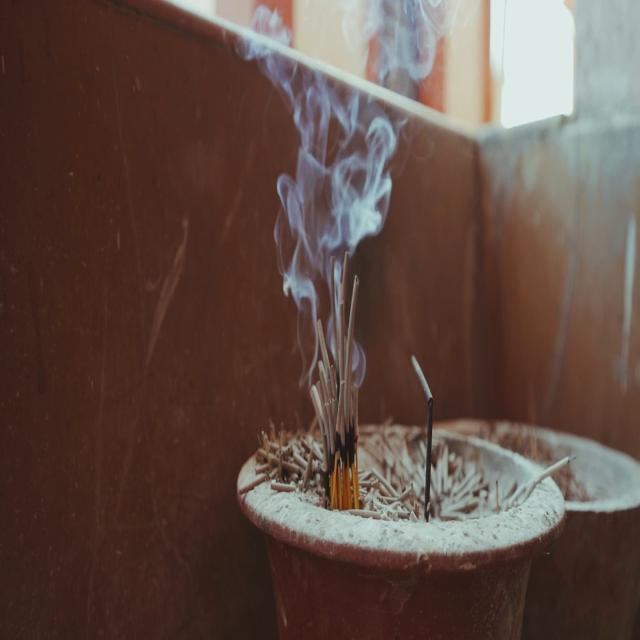fire: (228, 0, 447, 314)
